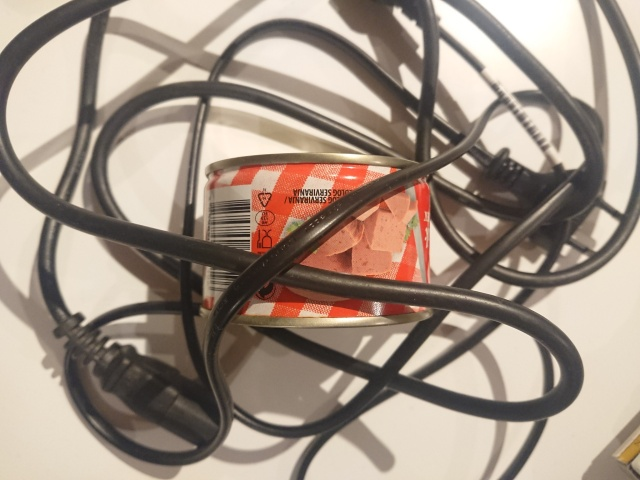Podravka Luncheon Meat 150g: (195, 152, 437, 332)
